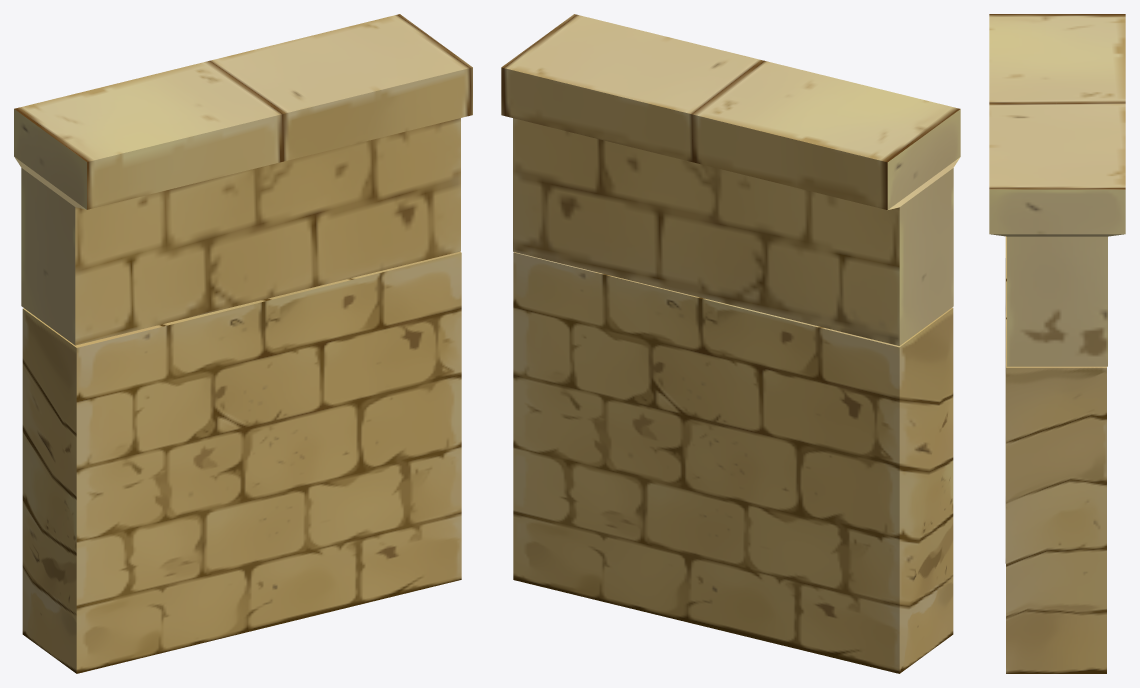
The model's file is Rome_Village_Props_29.FBX.
3 renders of one model, left to right at view 1: azimuth 30°, elevation 25°; view 2: azimuth 150°, elevation 25°; view 3: azimuth 270°, elevation 25°, orthographic. The views are drawn at different scales.
Parts seen in each view (by area): view 1: Rome_Village_Props_29; view 2: Rome_Village_Props_29; view 3: Rome_Village_Props_29.
Boxes of the visible parts, <box> form: Rome_Village_Props_29: <box>14,14,472,673</box>; Rome_Village_Props_29: <box>501,14,960,673</box>; Rome_Village_Props_29: <box>989,14,1125,673</box>.
Bounding box in the file's own units: 103 × 131 × 33.46.
